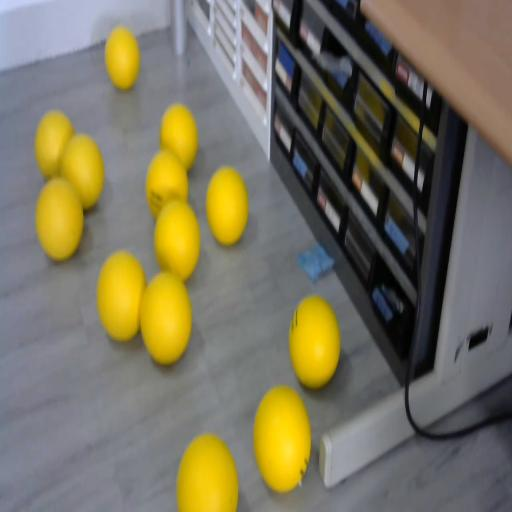FUEL: (251, 383, 312, 492), (288, 294, 341, 388), (176, 432, 239, 510), (140, 272, 192, 364), (96, 250, 146, 342), (153, 200, 201, 281), (58, 134, 106, 211), (205, 166, 249, 244), (159, 103, 199, 170), (104, 26, 140, 91)
